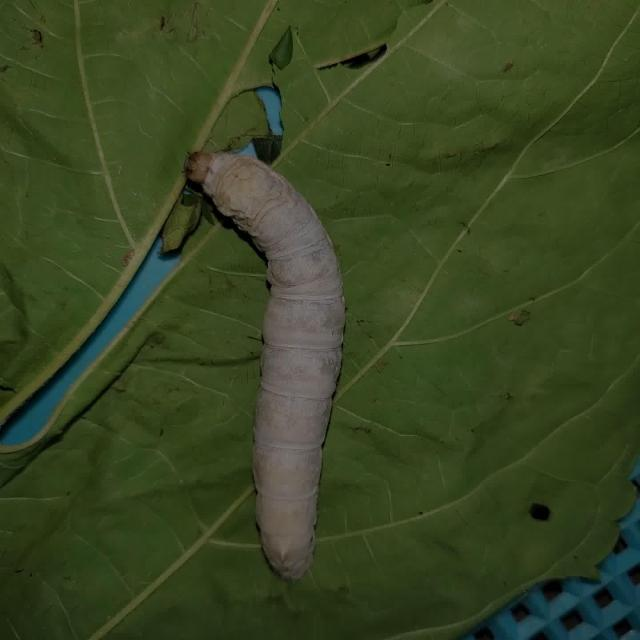Grasserie: (170, 119, 364, 584)
